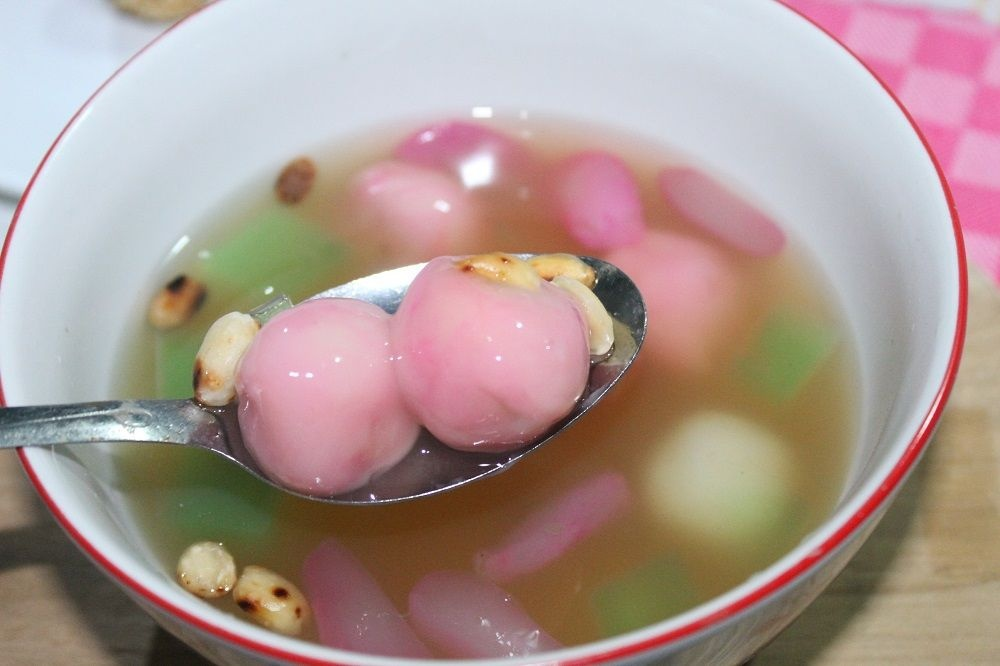ronde: (233, 262, 596, 500)
